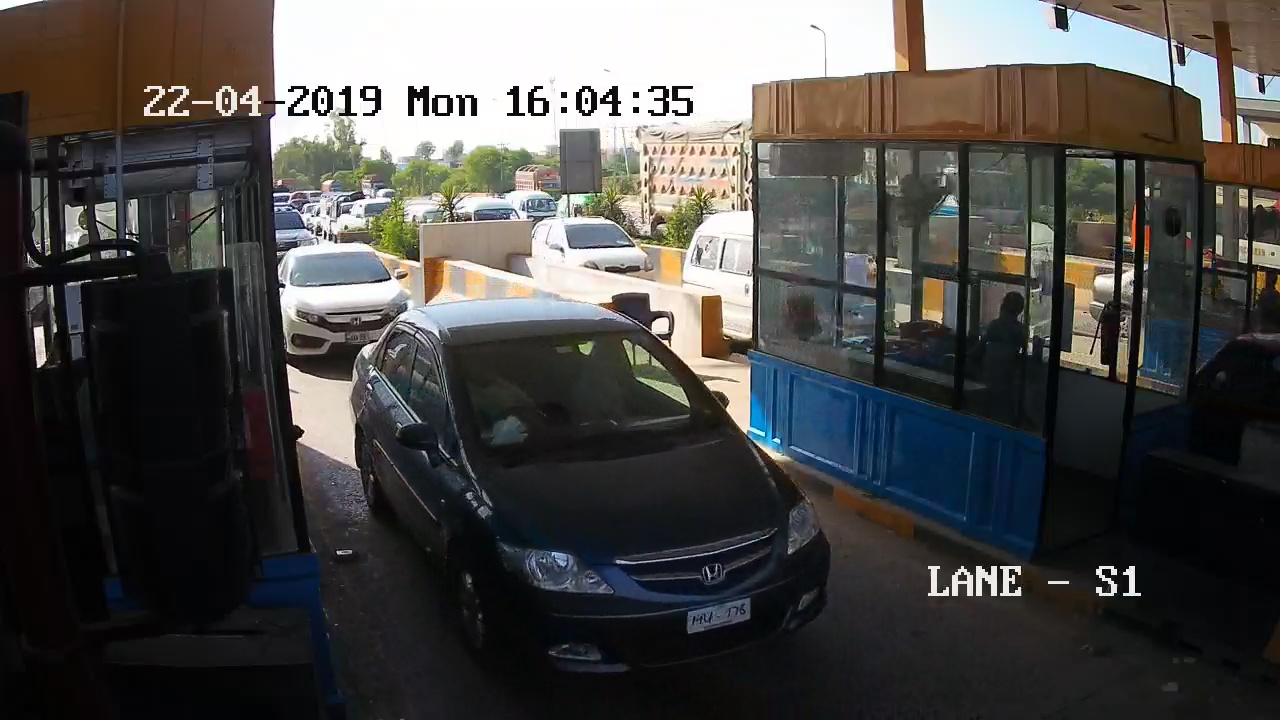Number Plate (Car): (685, 601, 749, 632)
